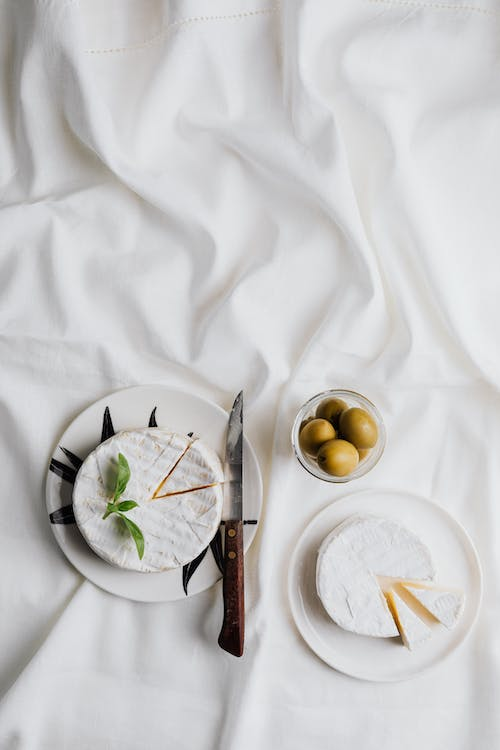knife: (213, 385, 245, 659)
